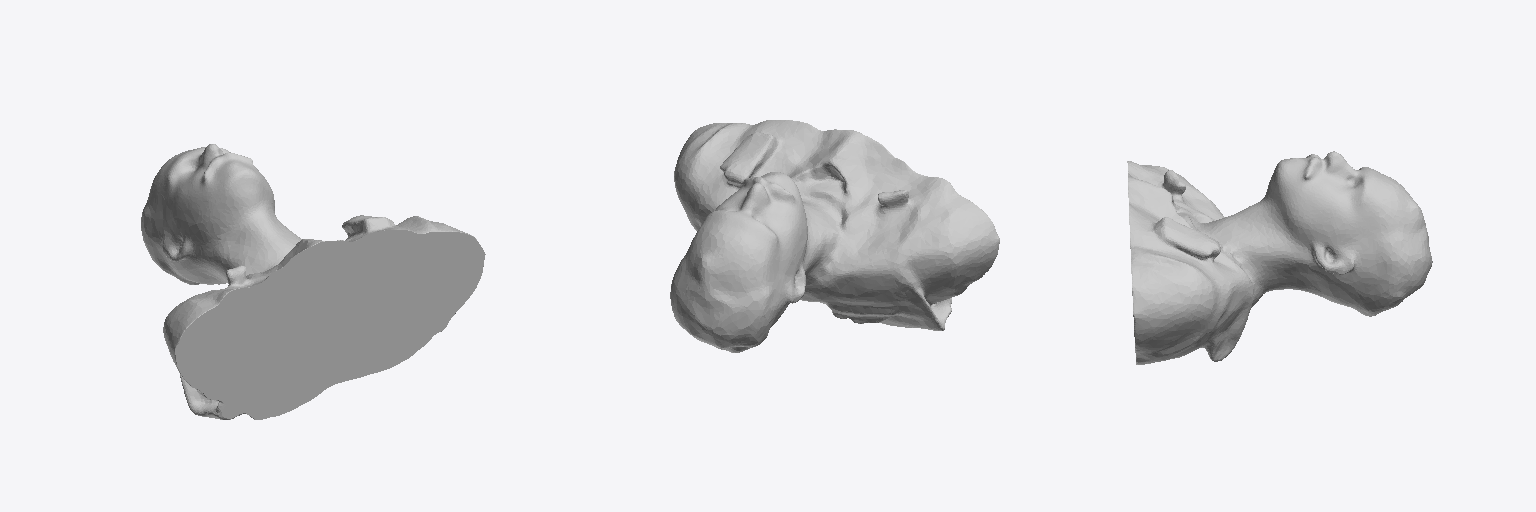
The model's file is fish-2.obj.
3 renders of one model, left to right at view 1: azimuth 30°, elevation 25°; view 2: azimuth 150°, elevation 25°; view 3: azimuth 270°, elevation 25°, orthographic.
Visible parts, largest first — view 1: Null_Object; view 2: Null_Object; view 3: Null_Object.
Part boxes in pixels (x1,y1,x2,y2): Null_Object: (141,144,485,419); Null_Object: (670,120,999,352); Null_Object: (1127,151,1432,364).
Size of the model in its own units: 5.5 by 3.23 by 4.65.